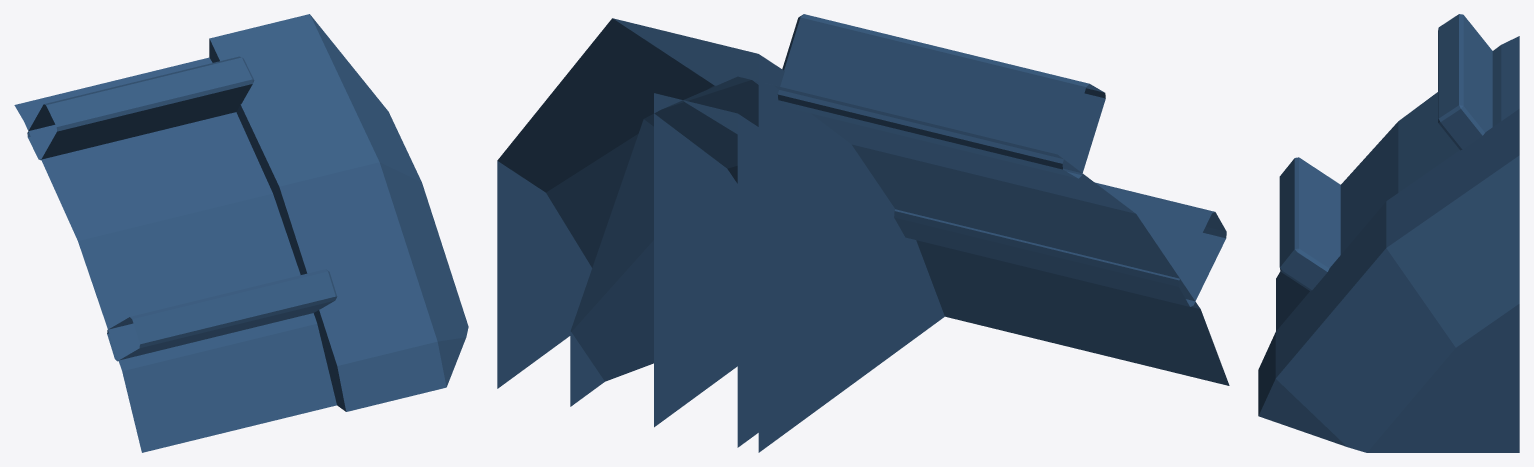
File: cell_79.obj
3 views of the same model, side by side, from view 1: azimuth 30°, elevation 25°; view 2: azimuth 150°, elevation 25°; view 3: azimuth 270°, elevation 25° (orthographic). The views are drawn at different scales.
Size of the model in its own units: 0.5745 by 0.407 by 0.3637.
